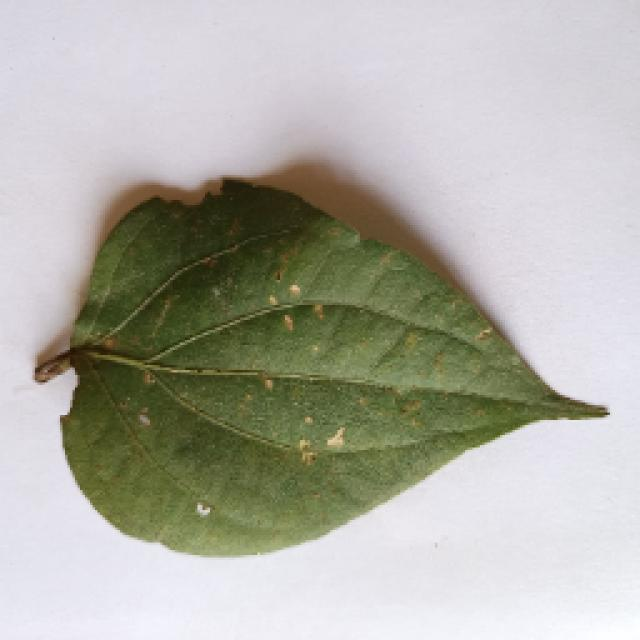pollu-disease: (38, 175, 602, 553)
